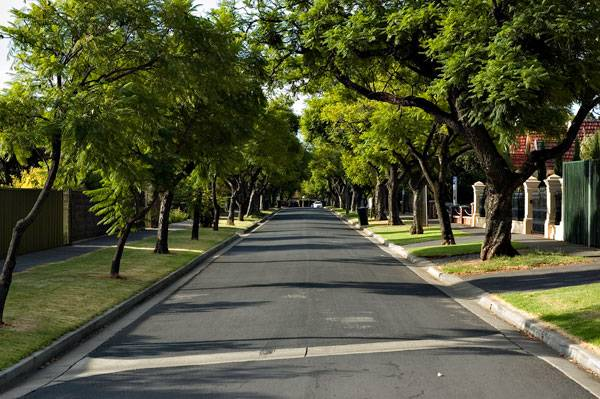Tree: (291, 1, 599, 265), (12, 1, 155, 282), (191, 94, 290, 221)
